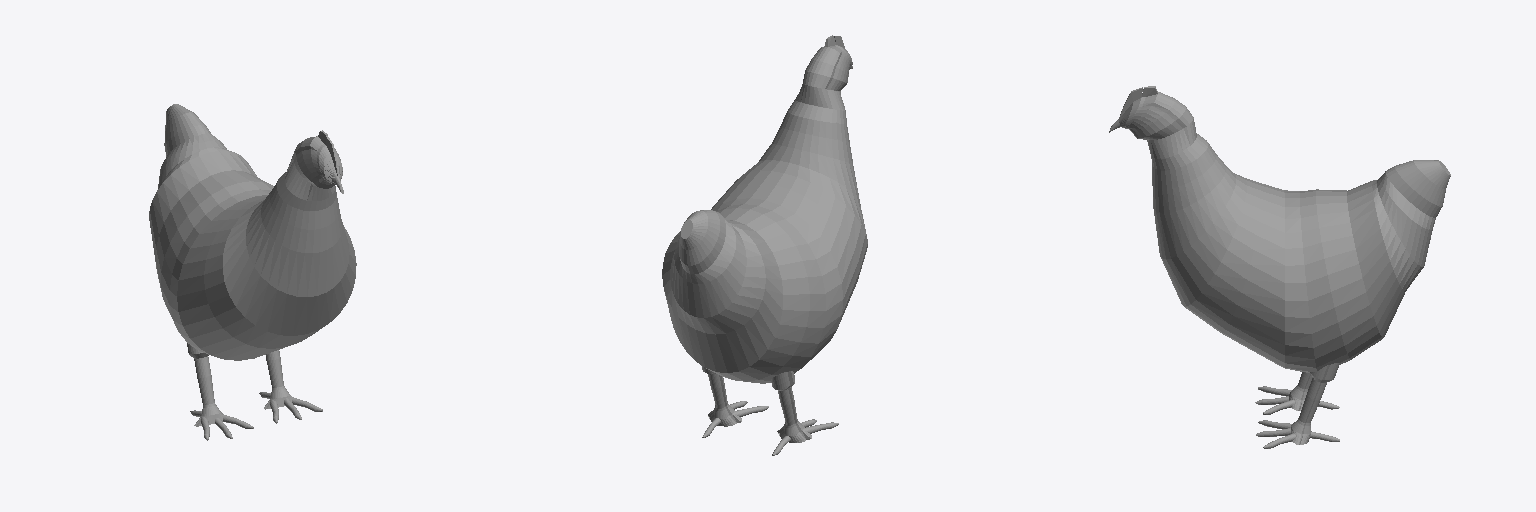
The model's file is chicken.obj.
3 renders of one model, left to right at view 1: azimuth 30°, elevation 25°; view 2: azimuth 150°, elevation 25°; view 3: azimuth 270°, elevation 25°, orthographic.
Parts seen in each view (by area): view 1: Cilindro_Cilindro.001, Cilindro.001_Cilindro, Cilindro.010; view 2: Cilindro_Cilindro.001, Cilindro.001_Cilindro, Cilindro.010; view 3: Cilindro_Cilindro.001, Cilindro.010, Cilindro.001_Cilindro.
Part boxes in pixels (left/top/right/bottom): Cilindro_Cilindro.001: left=149, top=104, right=356, bottom=360; Cilindro.001_Cilindro: left=187, top=343, right=253, bottom=440; Cilindro.010: left=259, top=350, right=322, bottom=423; Cilindro_Cilindro.001: left=662, top=35, right=867, bottom=383; Cilindro.001_Cilindro: left=771, top=371, right=838, bottom=455; Cilindro.010: left=701, top=365, right=768, bottom=437; Cilindro_Cilindro.001: left=1109, top=86, right=1450, bottom=372; Cilindro.010: left=1256, top=363, right=1339, bottom=448; Cilindro.001_Cilindro: left=1255, top=372, right=1339, bottom=414.
Bounding box in the file's own units: 0.5256 × 1.11 × 1.01.